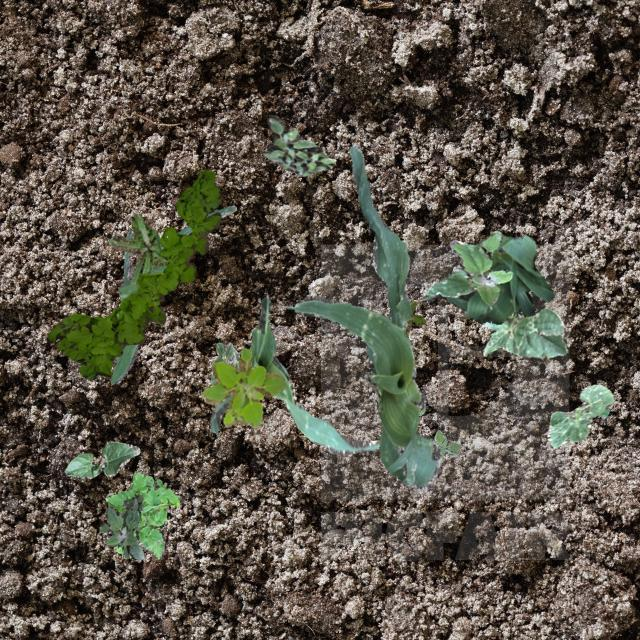crop: (284, 143, 440, 490), (208, 294, 380, 454), (110, 205, 236, 382), (418, 234, 554, 324), (482, 306, 566, 358), (546, 383, 612, 448), (64, 440, 138, 478), (210, 342, 238, 382)
weed: (46, 168, 220, 378), (200, 348, 284, 427), (104, 470, 178, 558), (426, 230, 512, 304), (260, 114, 334, 176), (108, 212, 166, 284), (98, 494, 144, 558), (362, 372, 424, 414), (432, 428, 460, 454), (404, 300, 424, 334)
